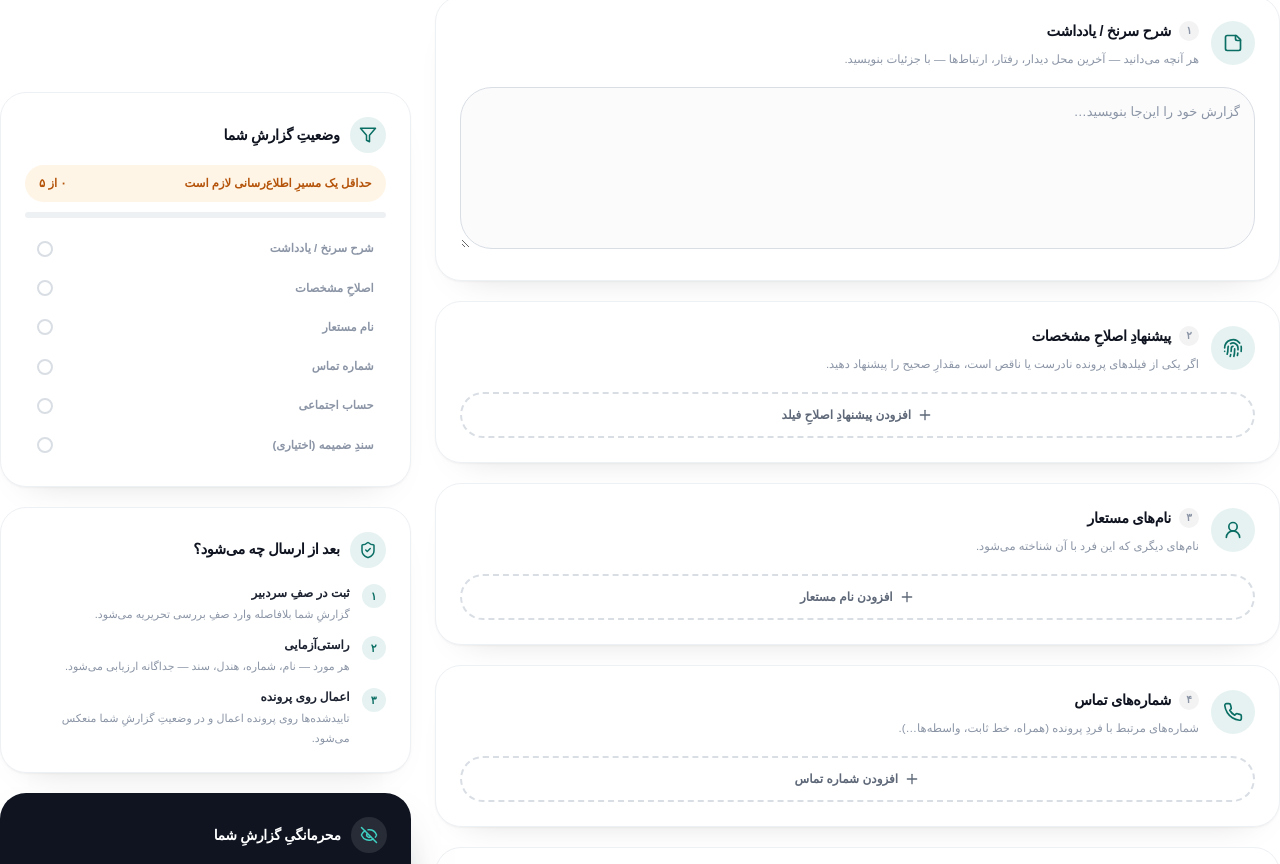
Test case: ReportPanel — ارسال موفق › POST با FormData: لیست‌ها JSON string + بنرِ موفقیت + پاک‌شدنِ فرم
The image size is (1280, 864).
Type "سرنخ موثق" into the text box with placeholder "گزارش خود را این‌جا بنویسید…" at (857, 168), box [460,87,1255,249]
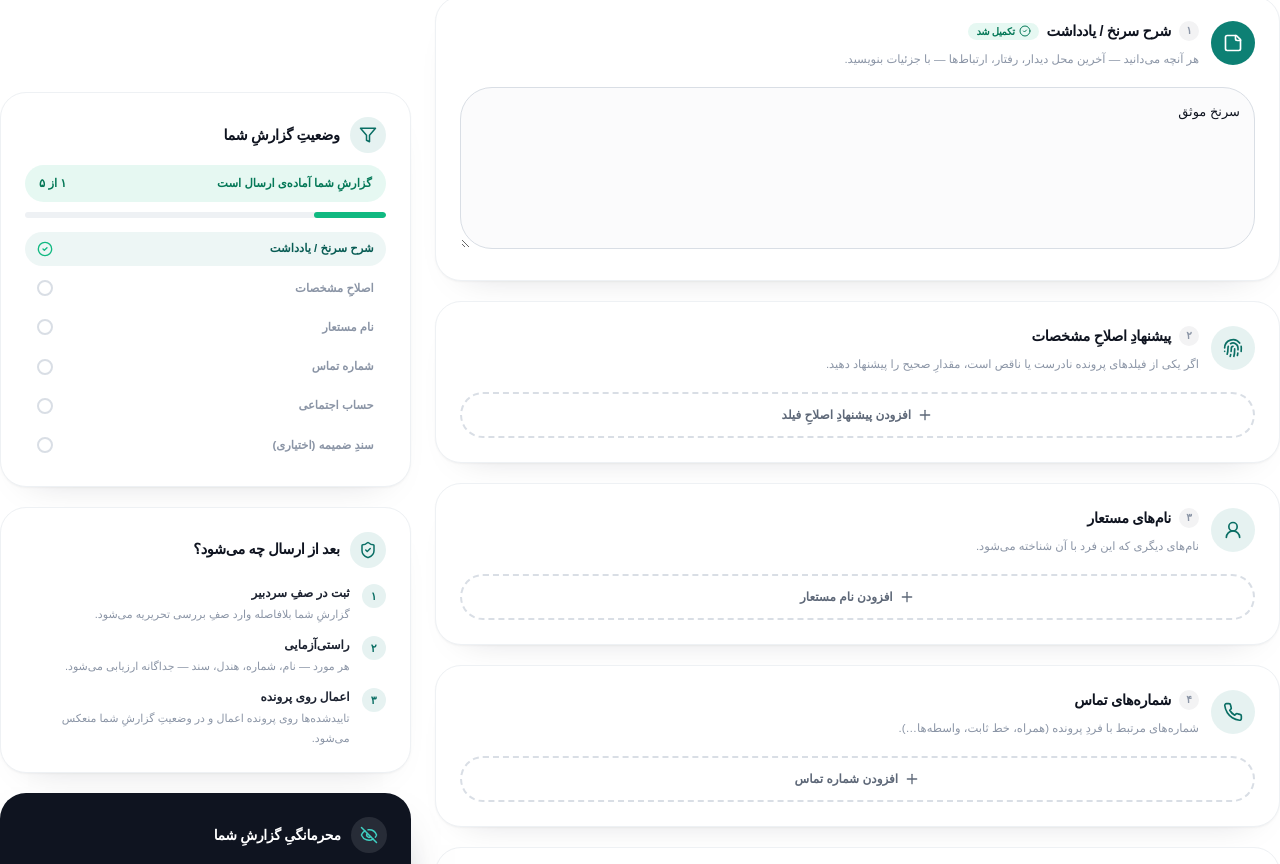
Click the button "افزودن نام مستعار" at (857, 597), box [460,574,1255,620]
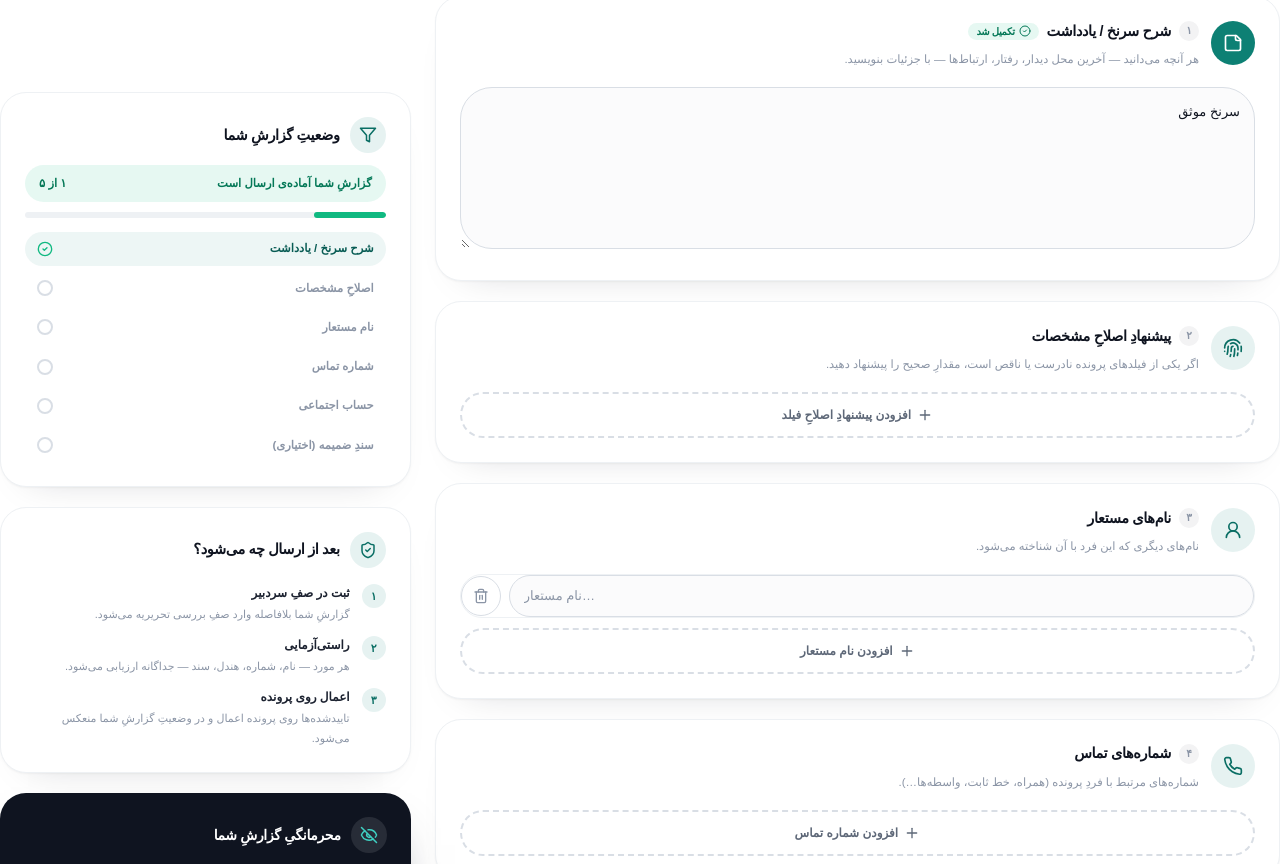
Type "ابوعلی" into the field labelled "نام مستعار" at (881, 596), box [509,575,1254,616]
(page scrolled)
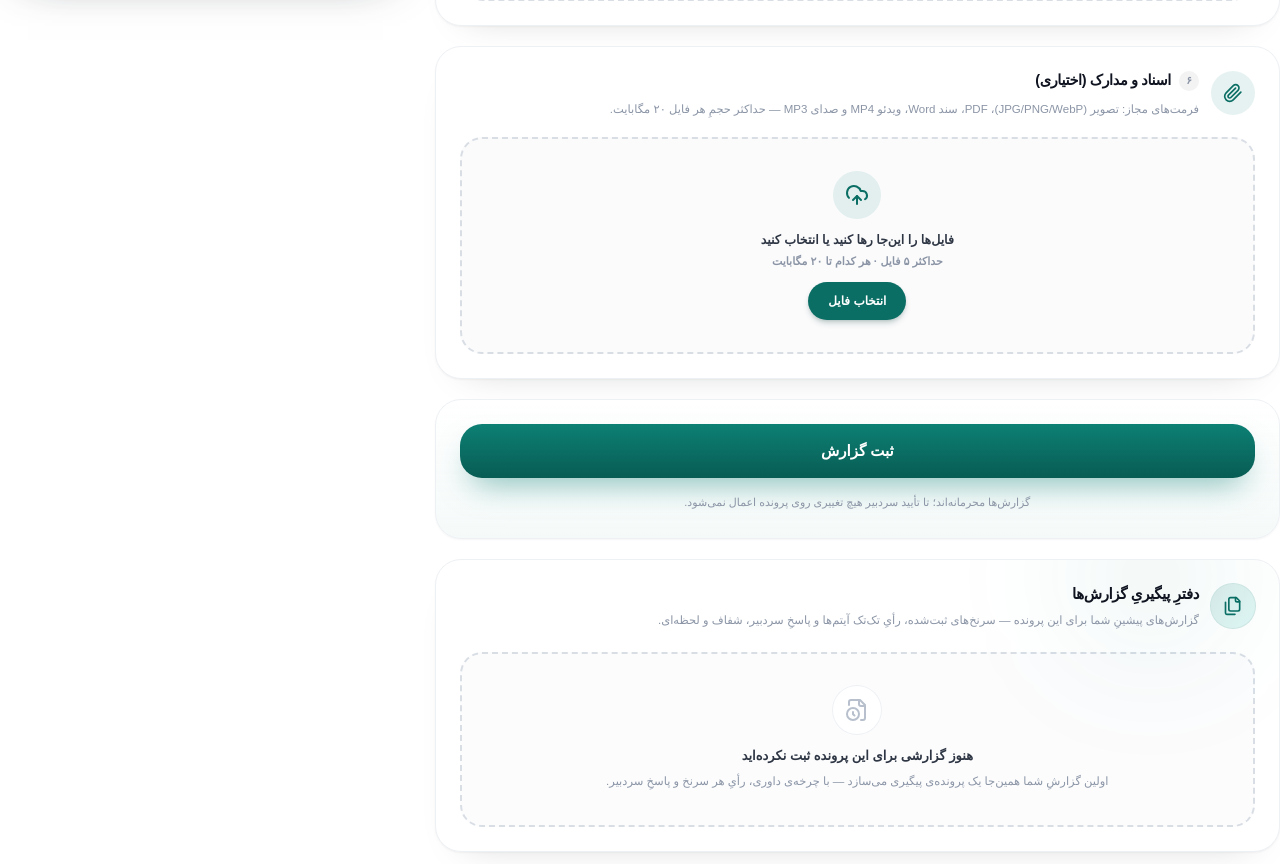
Click the button "ثبت گزارش" at (857, 451), box [460,424,1255,478]
(page scrolled)
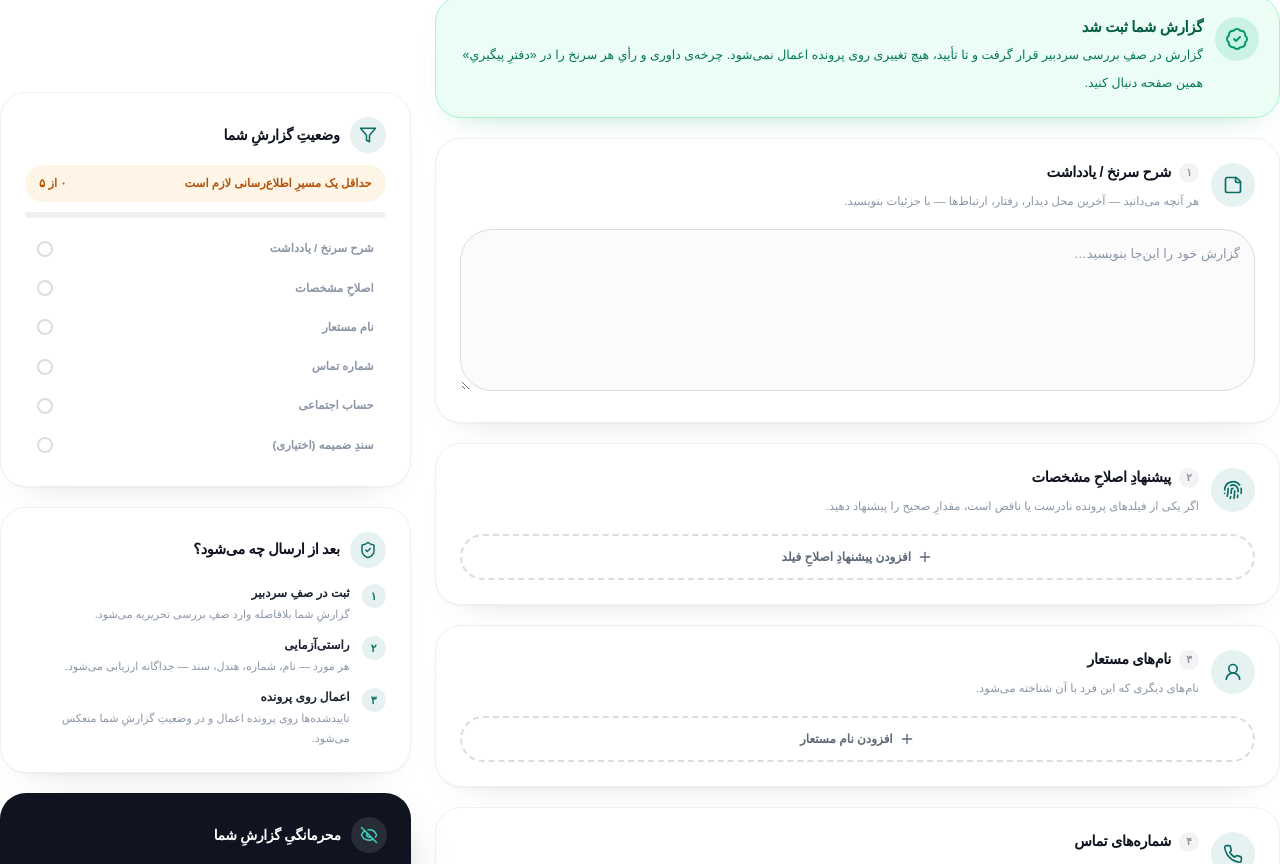
Check: the heading "گزارش شما ثبت شد" is shown, box [1082,18,1203,35]
